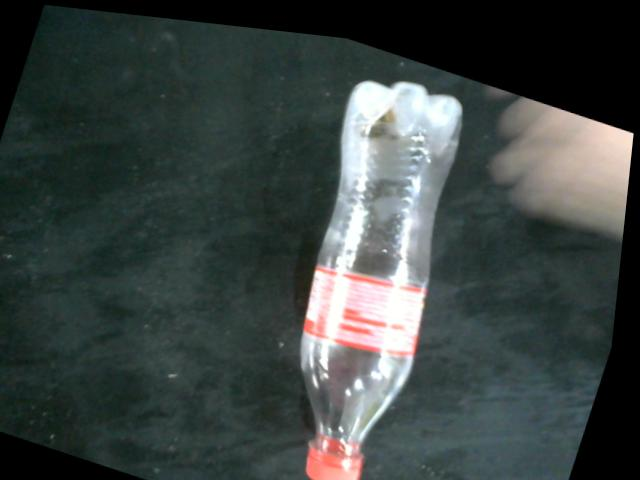bottle: (306, 71, 465, 480)
